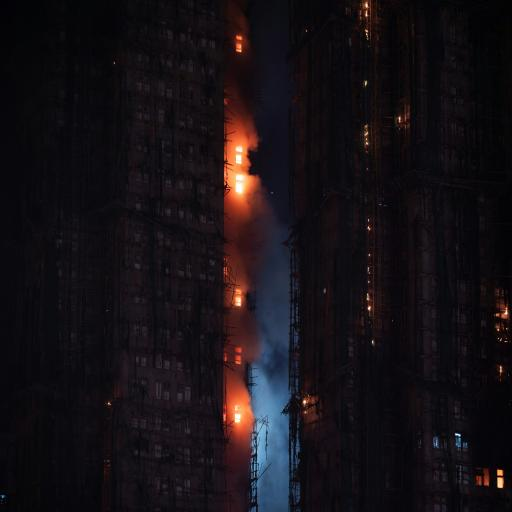buildingfire: (199, 1, 284, 512)
